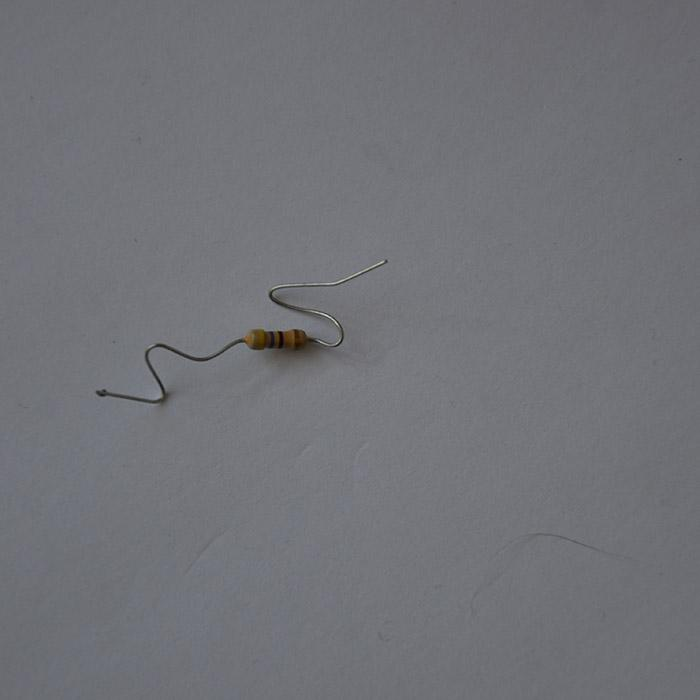resistor: (328, 390, 351, 456)
